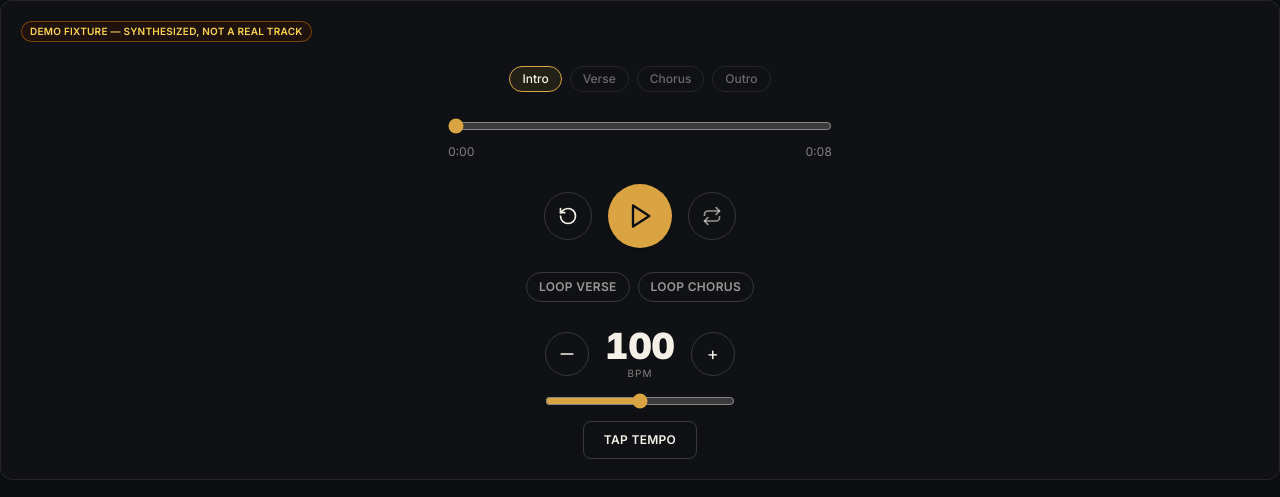
LoopPlayer › cleans up its AudioContext on unmount — no leaked context
Click the button named "Play" at (640, 216), box [608,184,672,248]
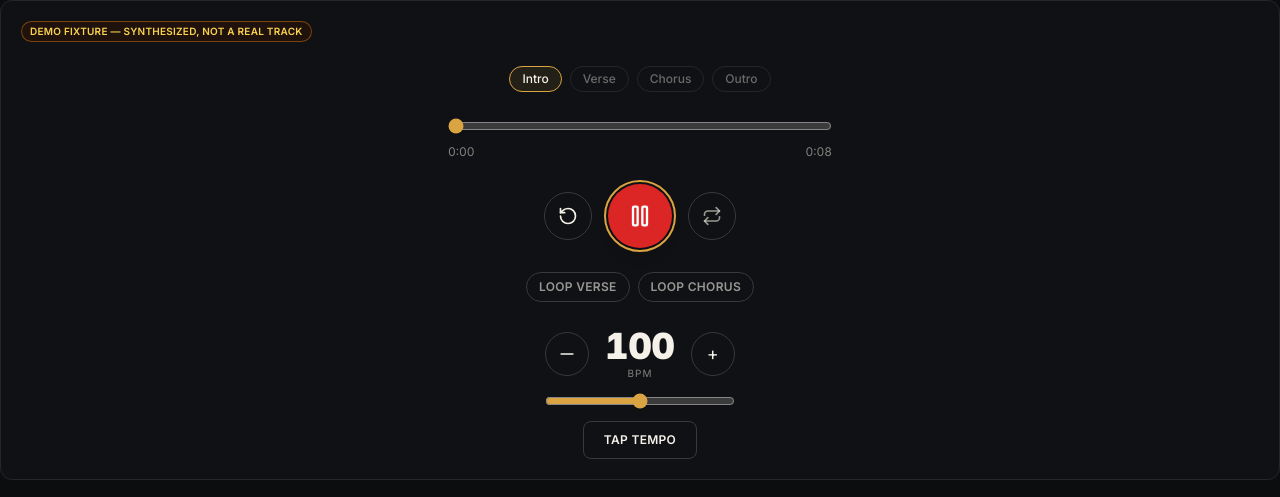
Result: the button named "Pause" is shown at [608,184,672,248]
